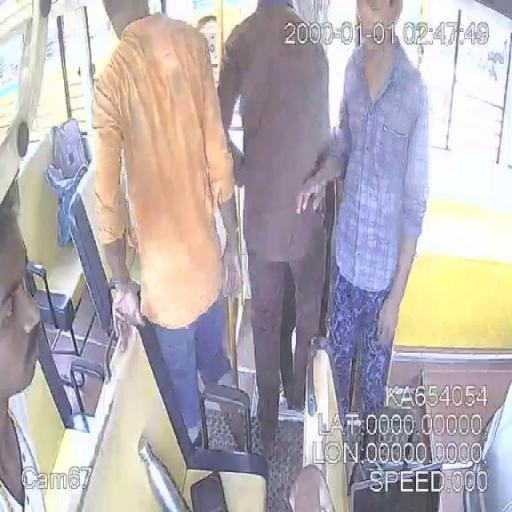persona: (89, 1, 243, 452), (296, 0, 431, 470), (215, 0, 333, 464), (0, 171, 47, 511)
